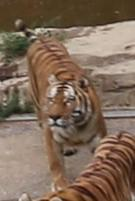tiger: (28, 36, 106, 191)
